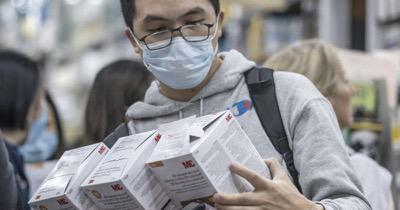with_mask: (134, 5, 217, 92), (19, 114, 59, 164), (21, 86, 47, 147)
without_mask: (330, 71, 358, 133)
